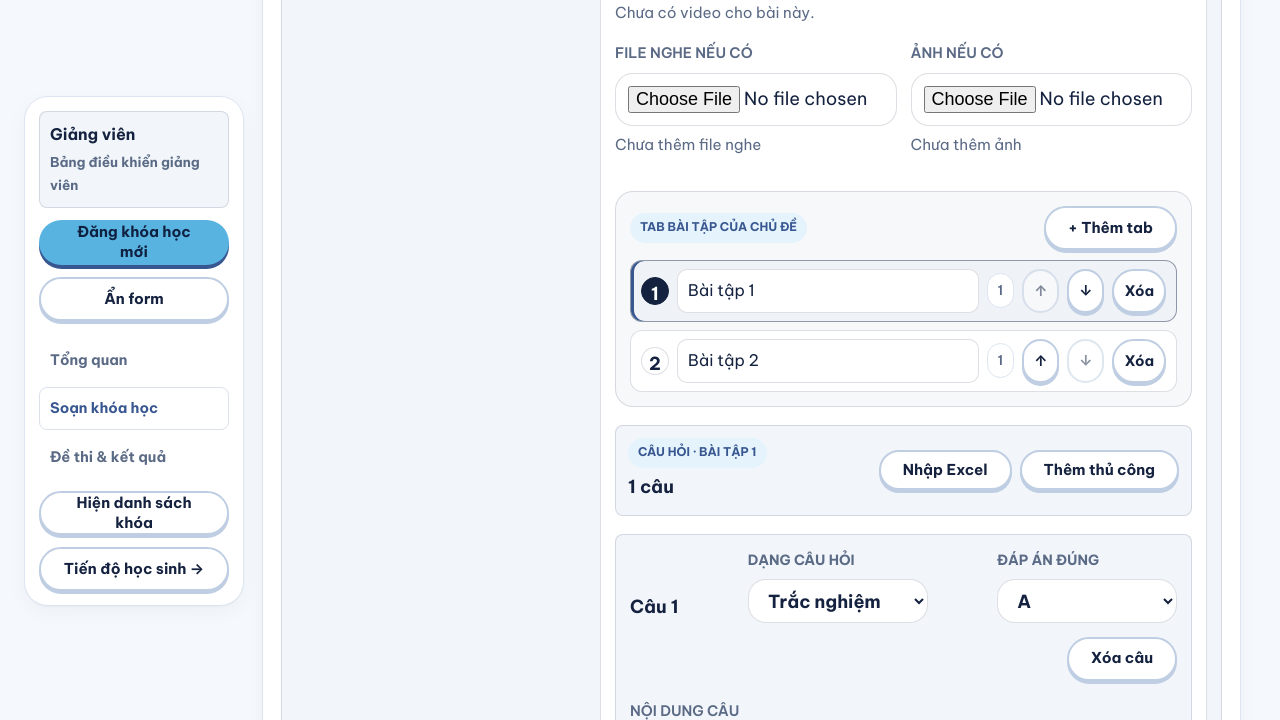
Test case: TeacherDashboardPage — tab bài tập của một bài học › bấm sang tab khác thì mở đúng câu hỏi của tab đó
The width and height of the screenshot is (1280, 720).
(page scrolled)
Expected: the 1st field showing "Bài tập 1" is shown, [677,269,978,312]
Click the button with class "draft-tab-chip__select" showing "2".
click(655, 361)  # box [641,347,669,375]
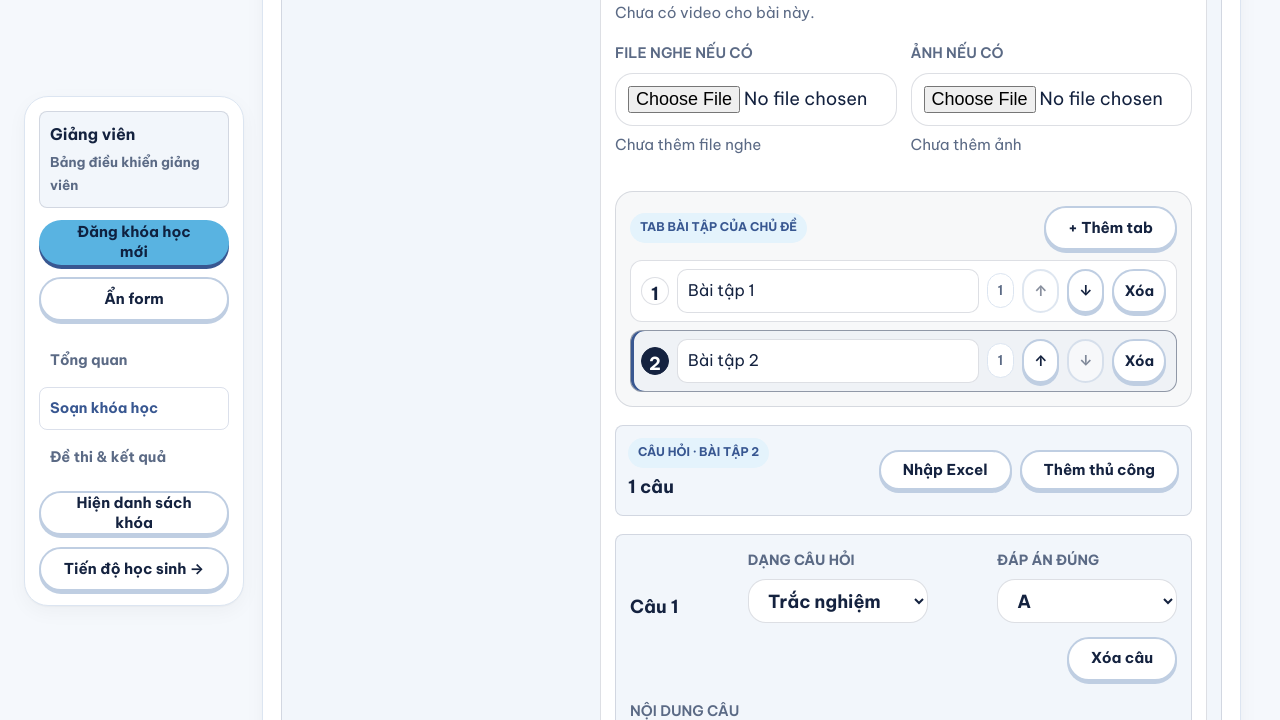
Now the text with class "eyebrow" reads "Câu hỏi · Bài tập 2", box [638,445,759,460]
